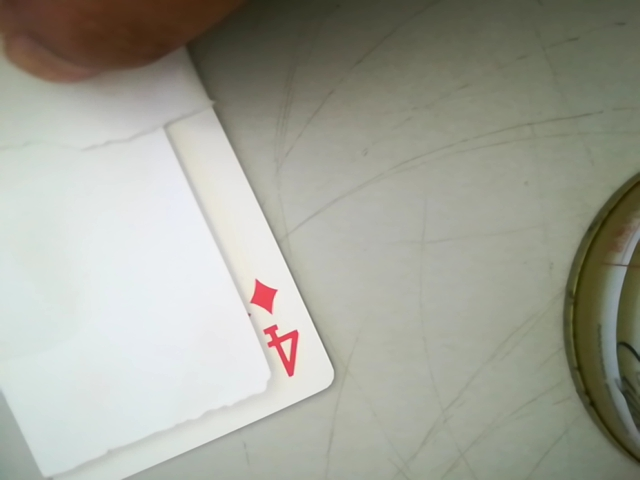fk 4: (235, 268, 312, 387)
